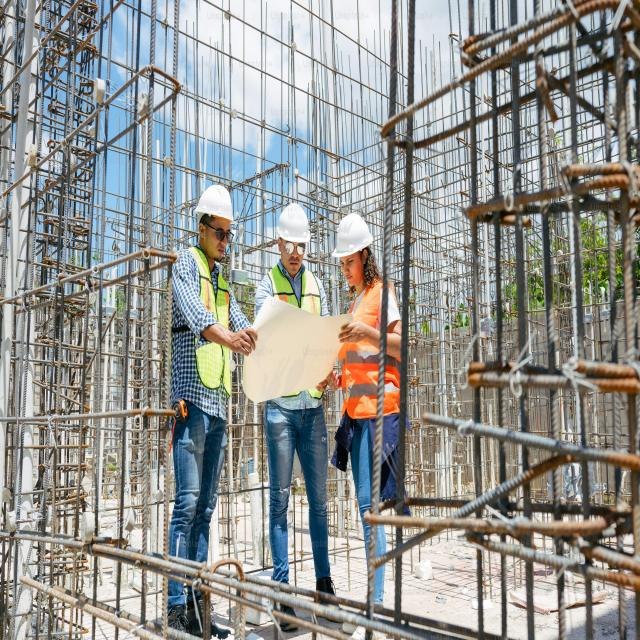Boots: (336, 271, 406, 422), (170, 244, 232, 397), (163, 580, 230, 640), (266, 594, 298, 629), (313, 575, 338, 601)
Hard Hat: (332, 210, 377, 262), (195, 183, 237, 233), (275, 200, 311, 243)
Reflective Vest: (265, 263, 325, 405)
Safety Glasses: (200, 223, 240, 246), (273, 235, 311, 259)
